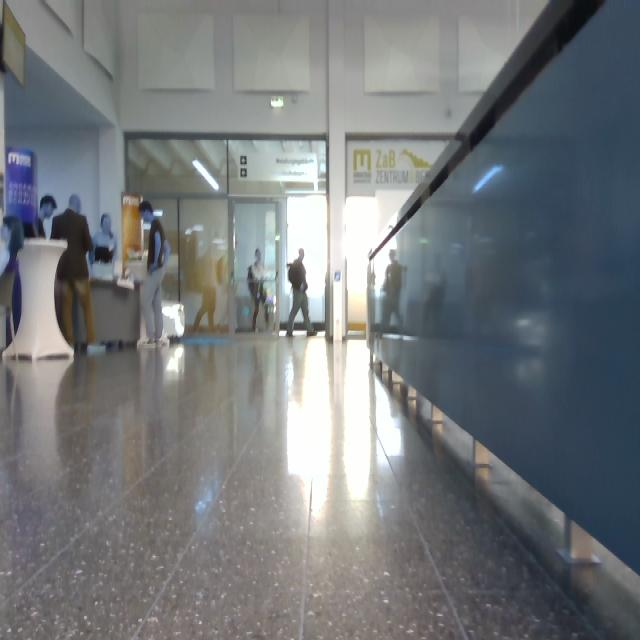light bulb: (195, 160, 219, 192)
person: (51, 196, 95, 345), (141, 202, 170, 345), (289, 249, 316, 337), (382, 250, 405, 332), (248, 249, 266, 332), (92, 214, 117, 265)
tiled floor: (1, 328, 640, 640)
